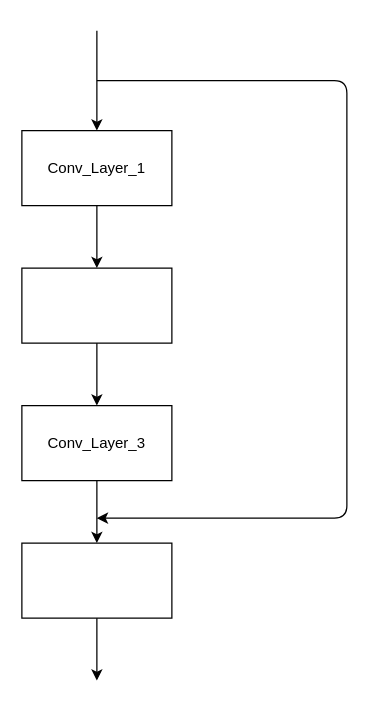
The diagram is 379 pixels wide and 713 high, and some of its shapes have lost their labels. Here are the shapes that lost their labels. From the top down, the box of each, then its label:
(21, 267, 172, 343): Conv_Layer_2
(21, 542, 172, 618): Concatenate
